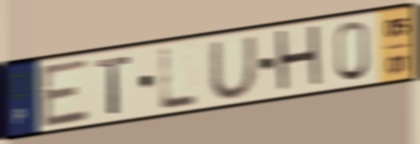0: (332, 19, 371, 83)
E: (38, 56, 92, 131)
H: (273, 22, 325, 97)
L: (158, 44, 201, 113)
T: (94, 53, 134, 117)
U: (207, 33, 260, 101)
